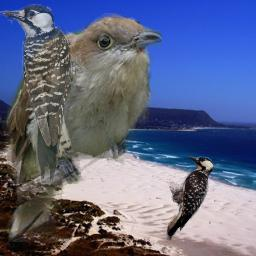Cuckoo: (2, 13, 162, 242)
Woodpecker: (0, 4, 90, 186), (164, 154, 220, 243)
